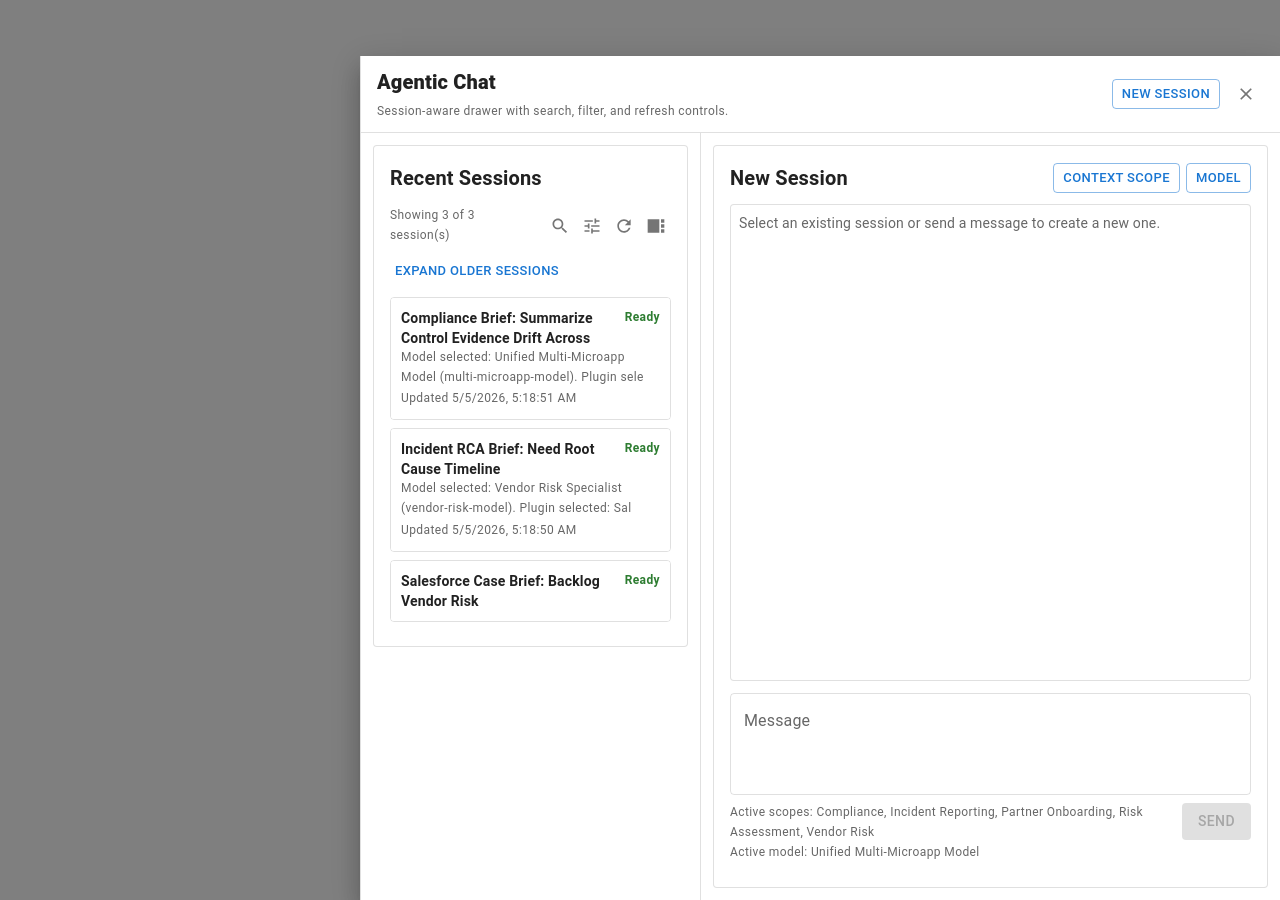
Test: AgenticChatPage › keeps only first two sessions expanded by default
The image size is (1280, 900).
Click the button named "refresh agentic chat sessions".
click(624, 226)  # box left=609, top=211, right=639, bottom=241
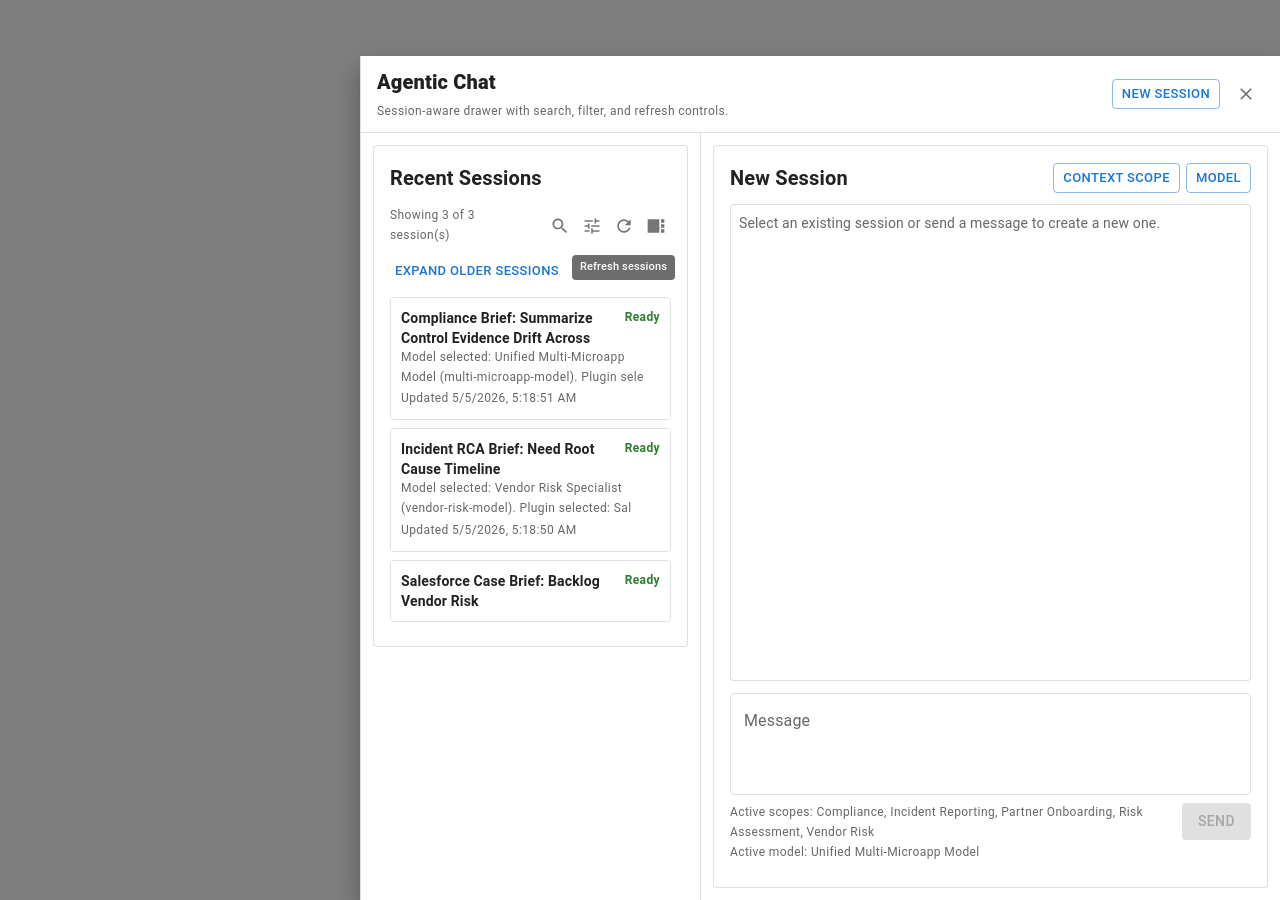
Expected: the text "Showing 3 of 3 session(s)" is shown, left=390, top=208, right=475, bottom=242
Expected: the text "Updated 5/5/2026, 5:18:51 AM" is shown 2 times, left=401, top=391, right=577, bottom=405; left=401, top=523, right=577, bottom=537
Click the button with aria-label "toggle full recent session details".
click(477, 271)  # box left=390, top=256, right=564, bottom=287
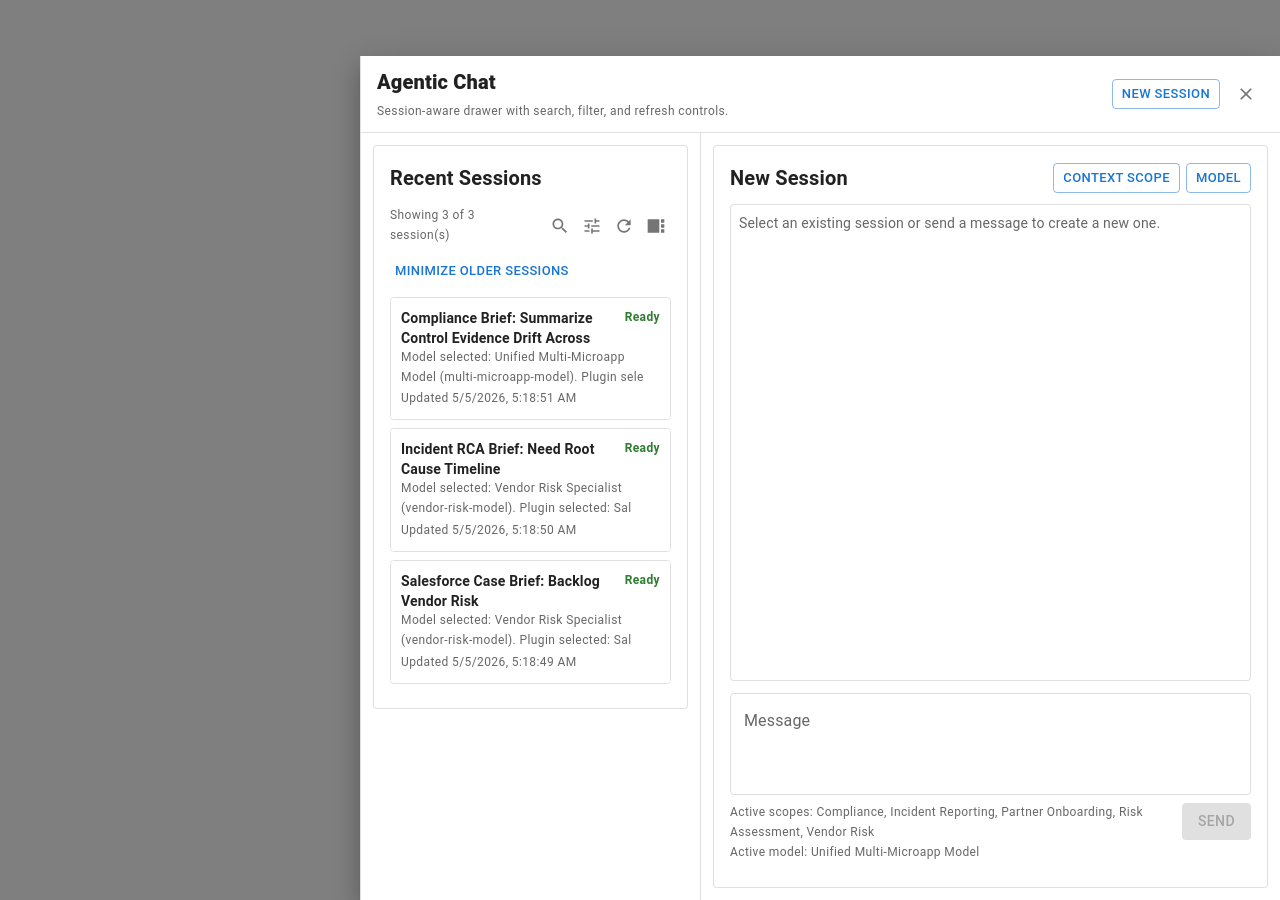
Expected: the text "Updated 5/5/2026, 5:18:51 AM" is shown 3 times, left=401, top=391, right=577, bottom=405; left=401, top=523, right=577, bottom=537; left=401, top=655, right=577, bottom=669
